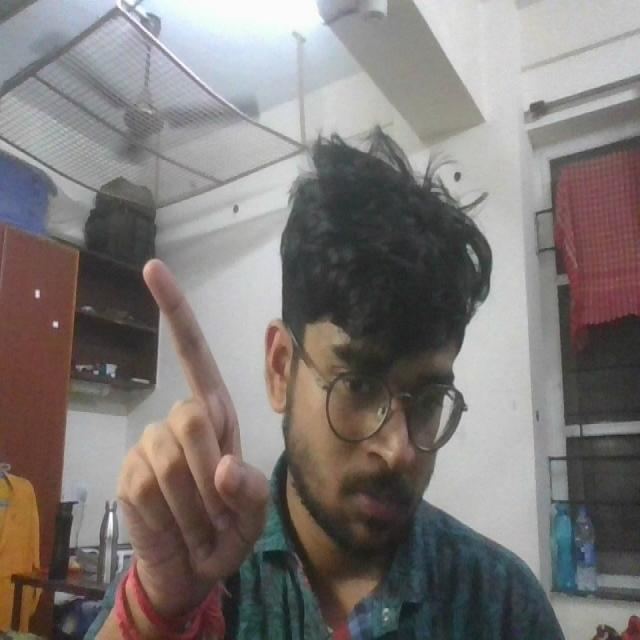No: (87, 248, 283, 583)
